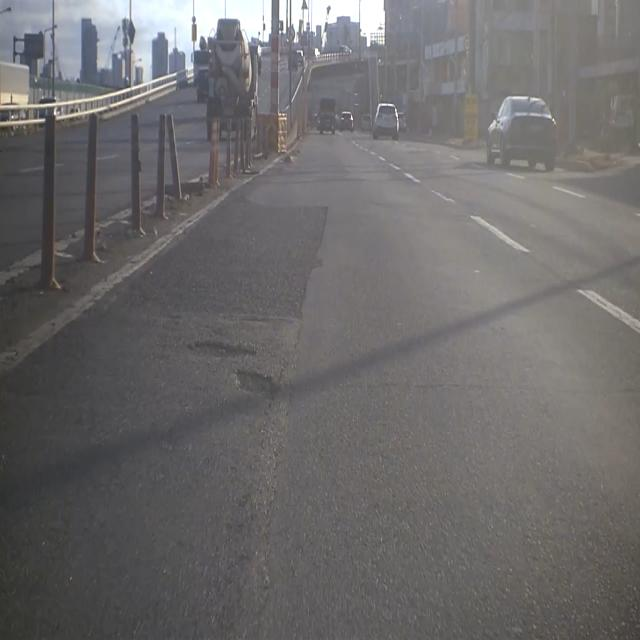Pothole: (178, 332, 262, 366), (233, 358, 284, 412)
